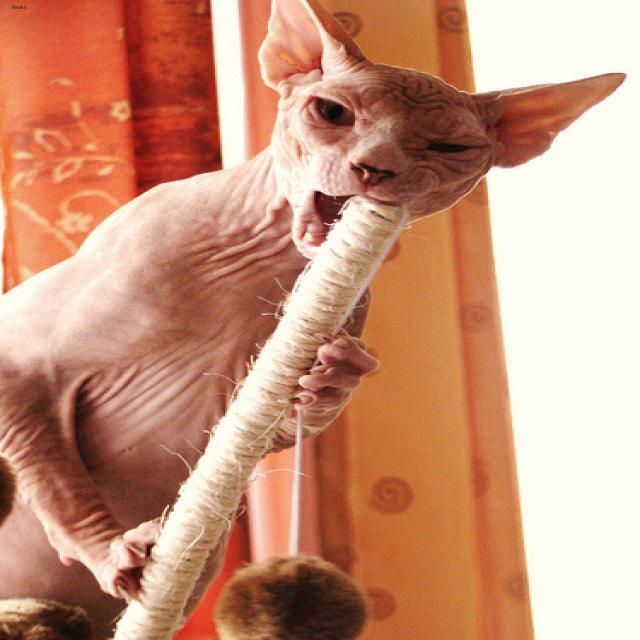Sphynx: (243, 0, 634, 266)
